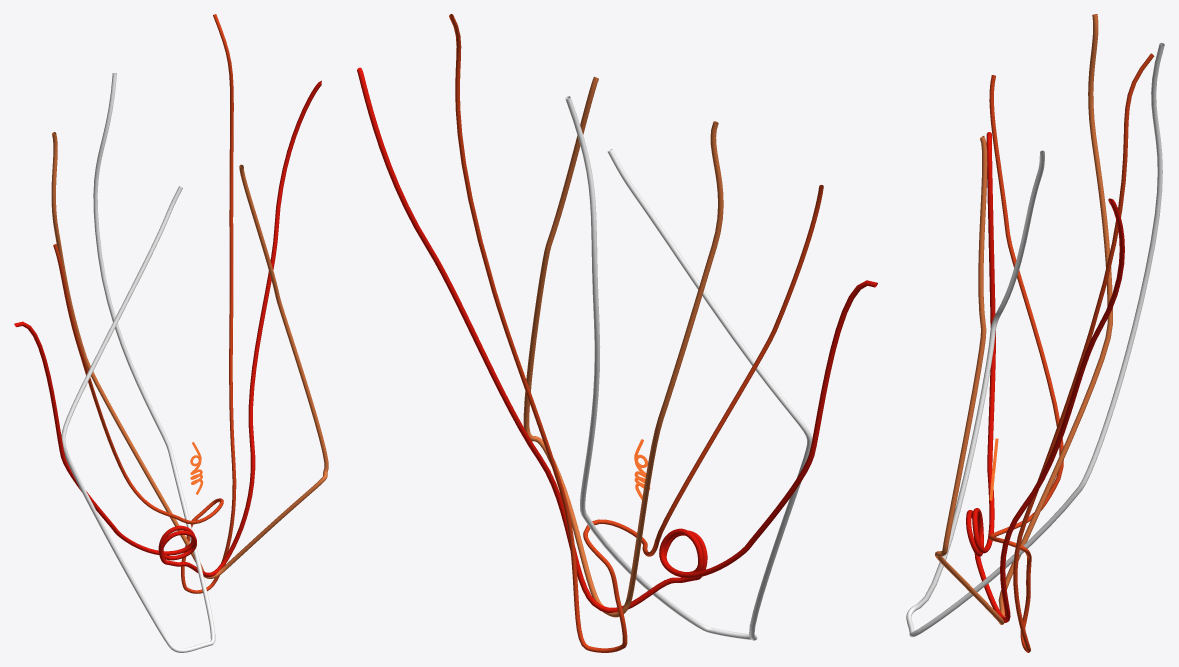
The model's file is curves.glb.
3 views of the same model, side by side, from view 1: azimuth 30°, elevation 25°; view 2: azimuth 150°, elevation 25°; view 3: azimuth 270°, elevation 25° (orthographic). The views are drawn at different scales.
Visible parts, largest first — view 1: line4, line1, line2, line3; view 2: line1, line4, line2, line3; view 3: line4, line3, line1, line2.
Boxes of the visible parts, bbox=[...] form: line4: bbox=[61, 73, 215, 652]; line1: bbox=[14, 80, 321, 576]; line2: bbox=[53, 14, 236, 593]; line3: bbox=[51, 132, 328, 578]; line1: bbox=[357, 67, 877, 612]; line4: bbox=[565, 96, 812, 640]; line2: bbox=[449, 14, 823, 652]; line3: bbox=[523, 76, 723, 617]; line4: bbox=[906, 43, 1164, 637]; line3: bbox=[935, 14, 1112, 624]; line1: bbox=[966, 132, 1124, 622]; line2: bbox=[989, 53, 1154, 652].
Size of the model in its own units: 11.18 by 15.92 by 5.79.
